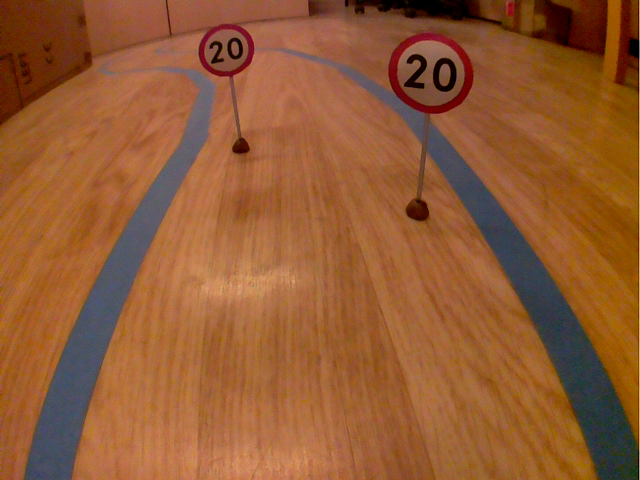Ograniczenie 20: (384, 28, 477, 117), (194, 19, 258, 80)
